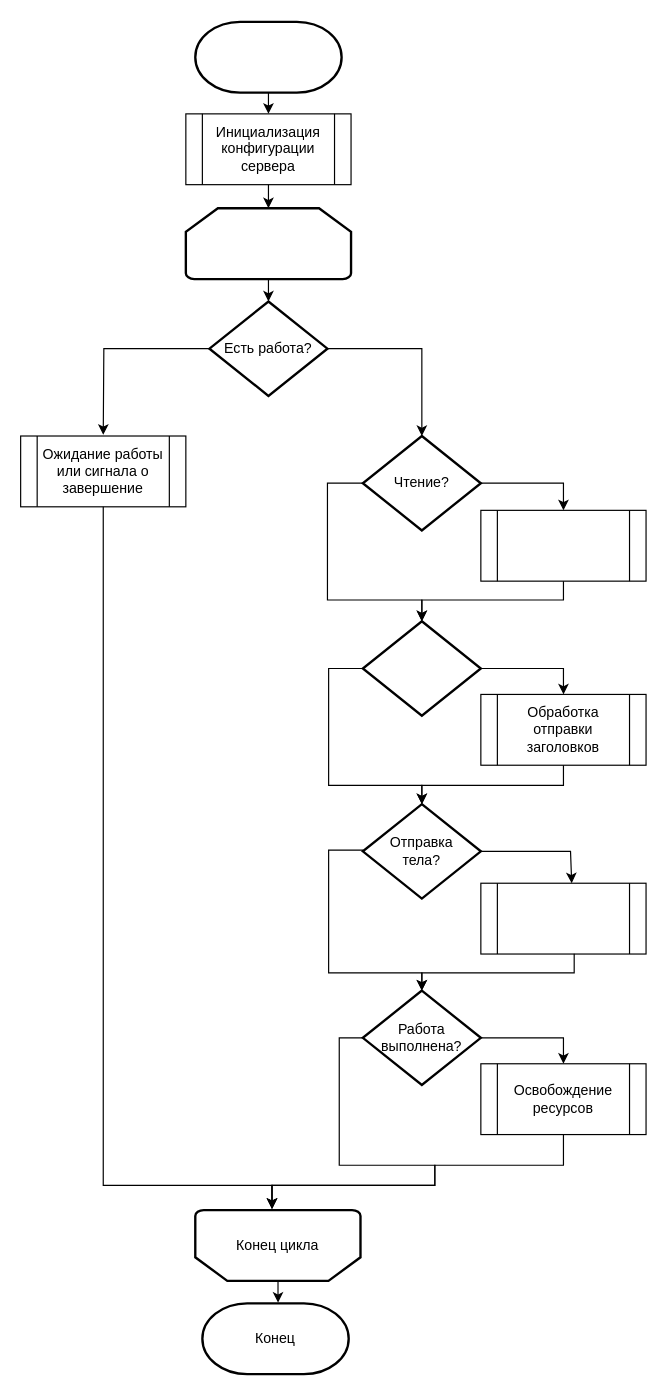
This 667x1395 diagram has some shape labels left out. Here are the shapes that lost their labels. From the top down, the centre of each, then its label:
At pixel 268 56: "Начало".
At pixel 268 243: "Пока не получен сигнал завершения".
At pixel 563 545: "Обработка чтения".
At pixel 421 668: "Отправка заголовков?".
At pixel 563 918: "Обработка отправки тела".
